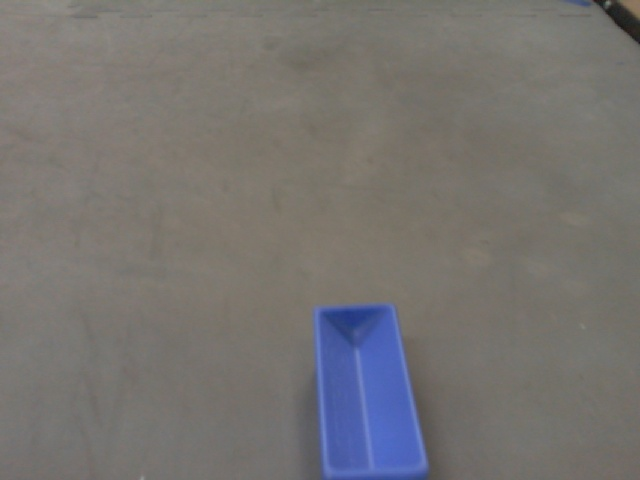BlueSample: (309, 294, 432, 480)
